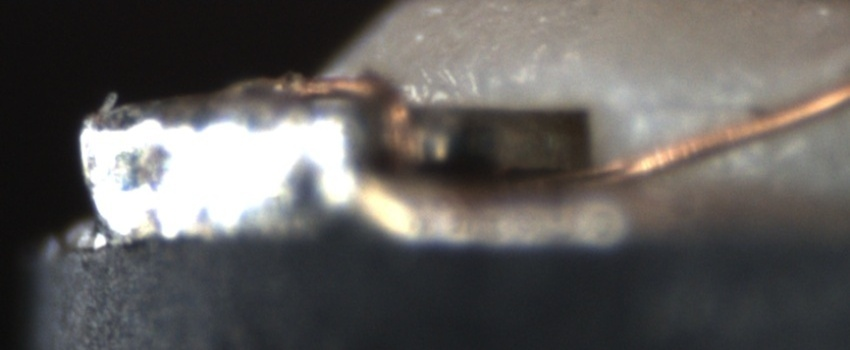DL: (629, 88, 769, 129)
TE: (300, 67, 421, 173)
